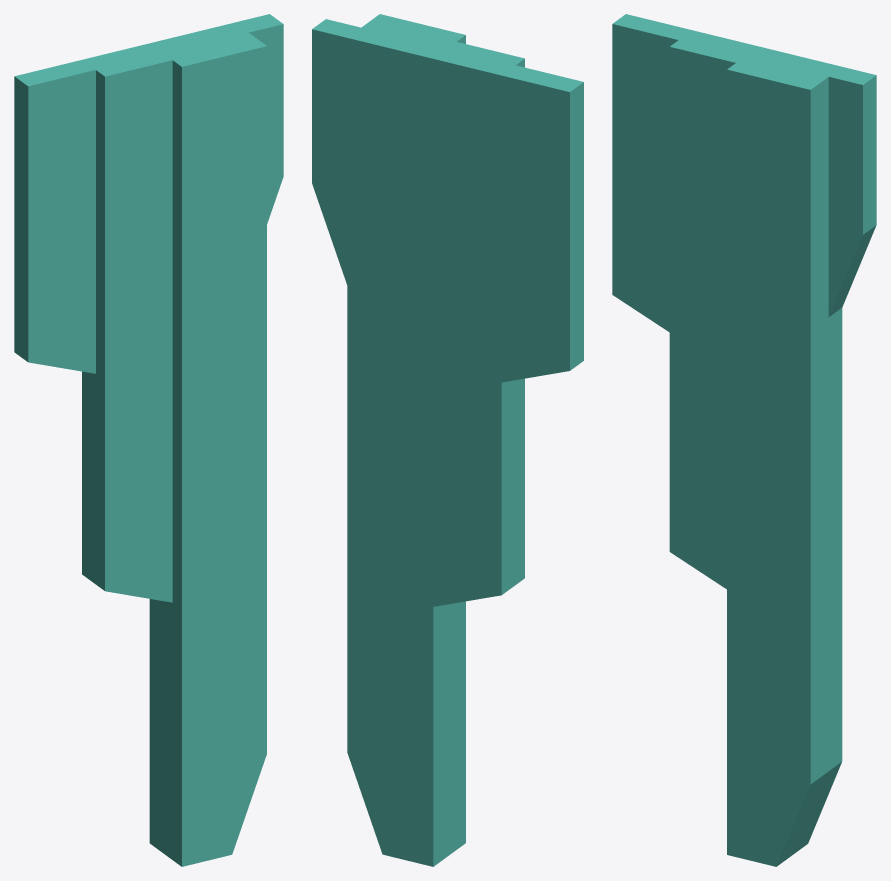
The model's file is hanging_moss.fbx.
3 views of the same model, side by side, from view 1: azimuth 30°, elevation 25°; view 2: azimuth 150°, elevation 25°; view 3: azimuth 330°, elevation 25° (orthographic). The views are drawn at different scales.
Parts seen in each view (by area): view 1: hanging_moss; view 2: hanging_moss; view 3: hanging_moss.
Part boxes in pixels (x1,y1,x2,y2): hanging_moss: (14,14,283,866); hanging_moss: (312,14,583,866); hanging_moss: (612,14,876,866).
Bounding box in the file's own units: 1.6 × 4.78 × 0.35.
